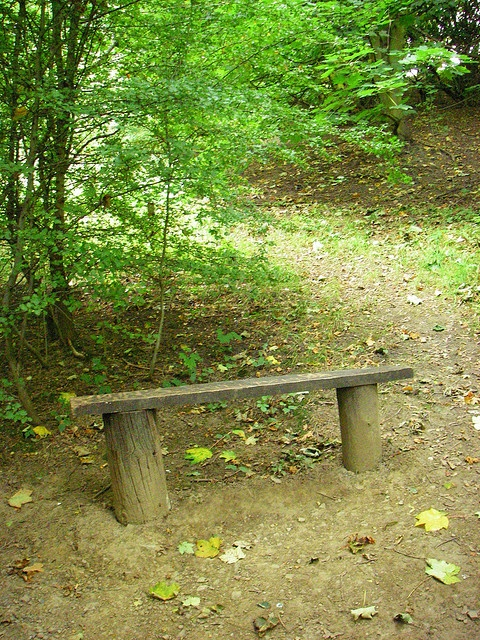bench: (71, 367, 480, 640)
